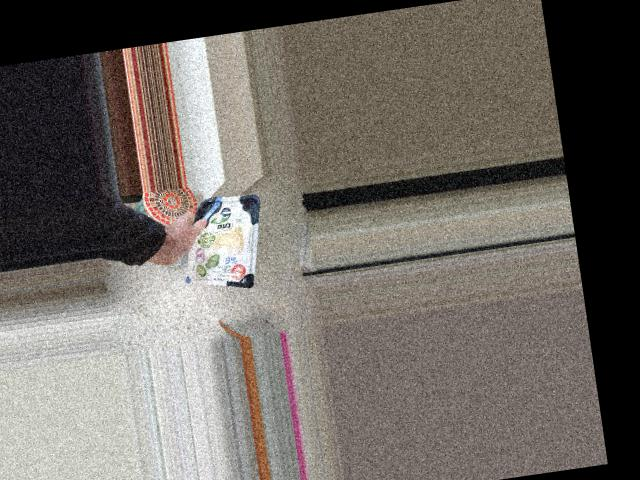cheese: (182, 186, 264, 296)
